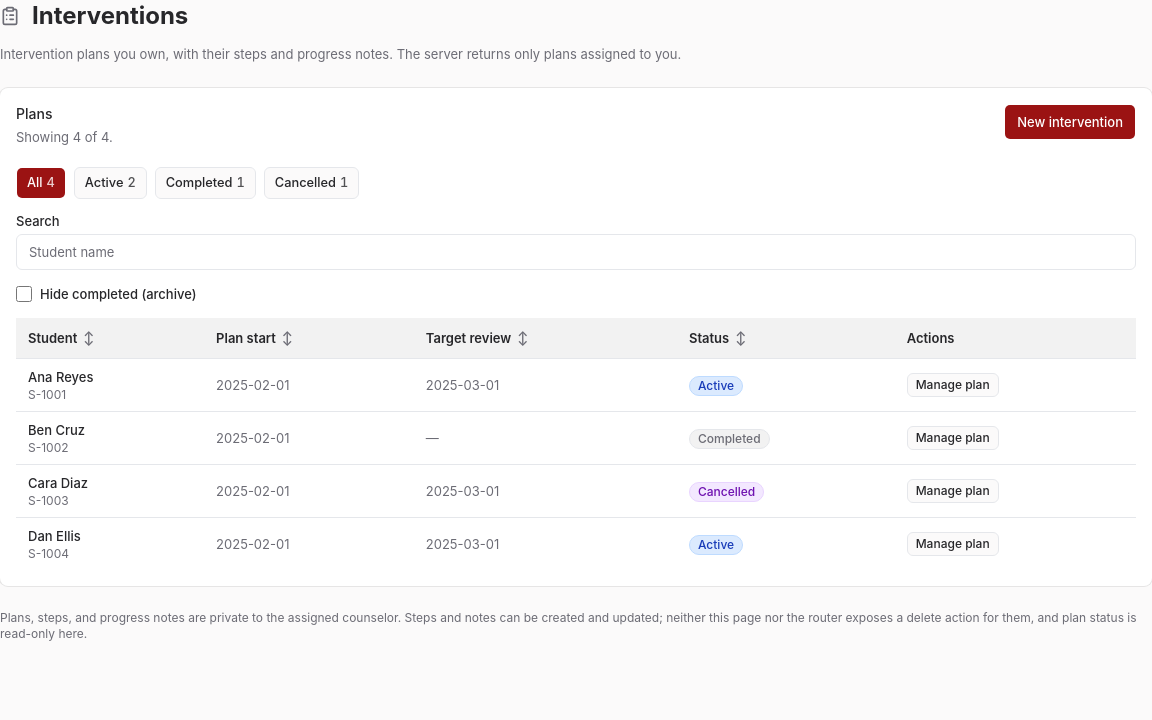
Test case: InterventionsPage › offers only the selected student's risk alerts
The width and height of the screenshot is (1152, 720).
expect the text "Ana Reyes" is shown: met, box [28,369,93,385]
Click the button "New intervention": [1070, 122] box [1004,104,1136,140]
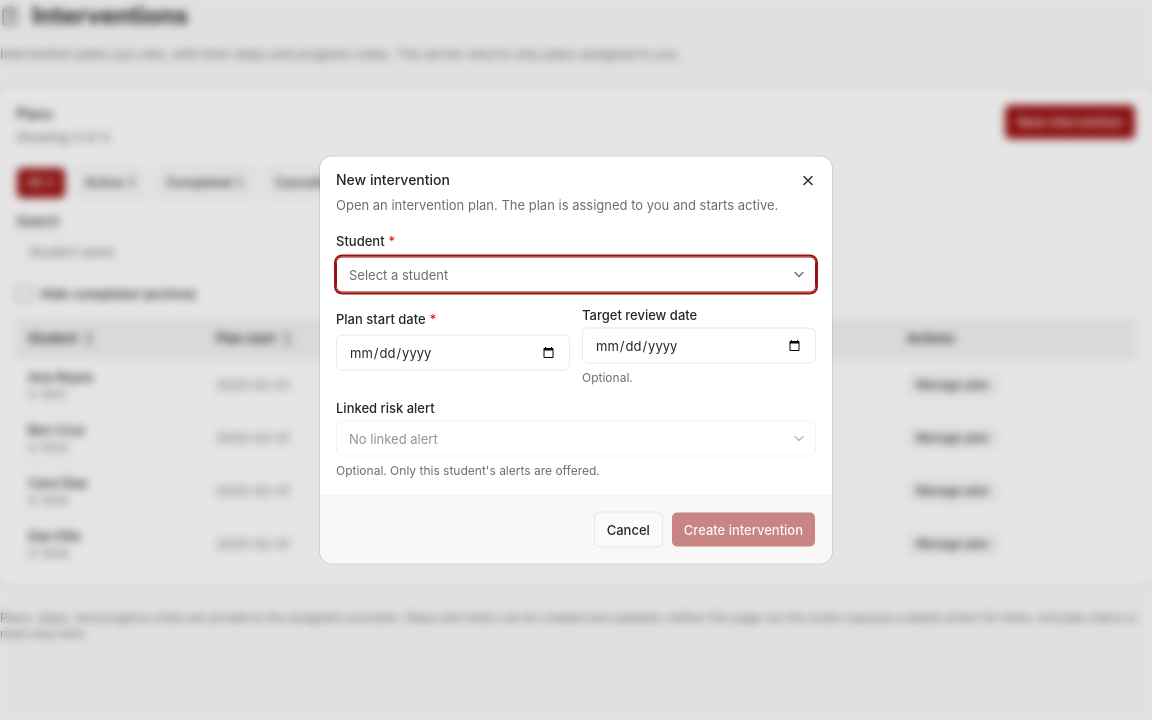
expect the dropdown labelled "Select a student" is enabled: met
Press ArrowDown in the dropdown labelled "Select a student", box [336,256,816,292]
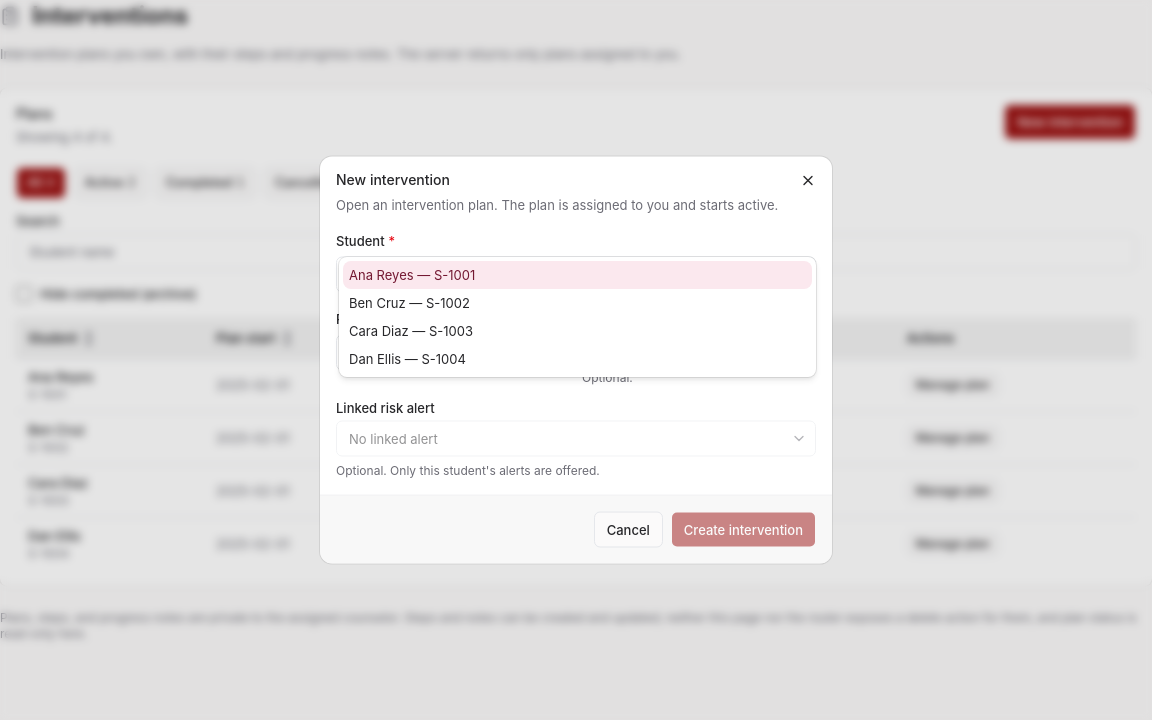
Click the option "Ana Reyes — S-1001": [381, 274] box [343,260,812,288]
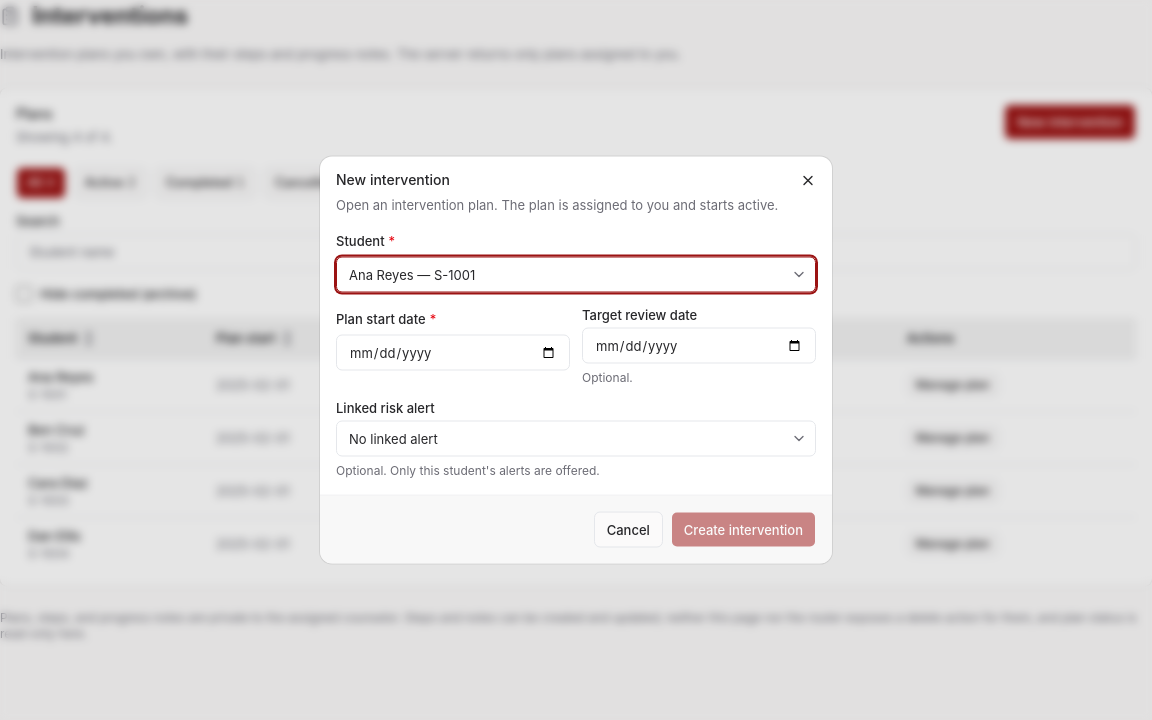
expect the dropdown named "linked risk alert" is enabled: met
Press ArrowDown in the dropdown named "linked risk alert", box [336,420,816,456]
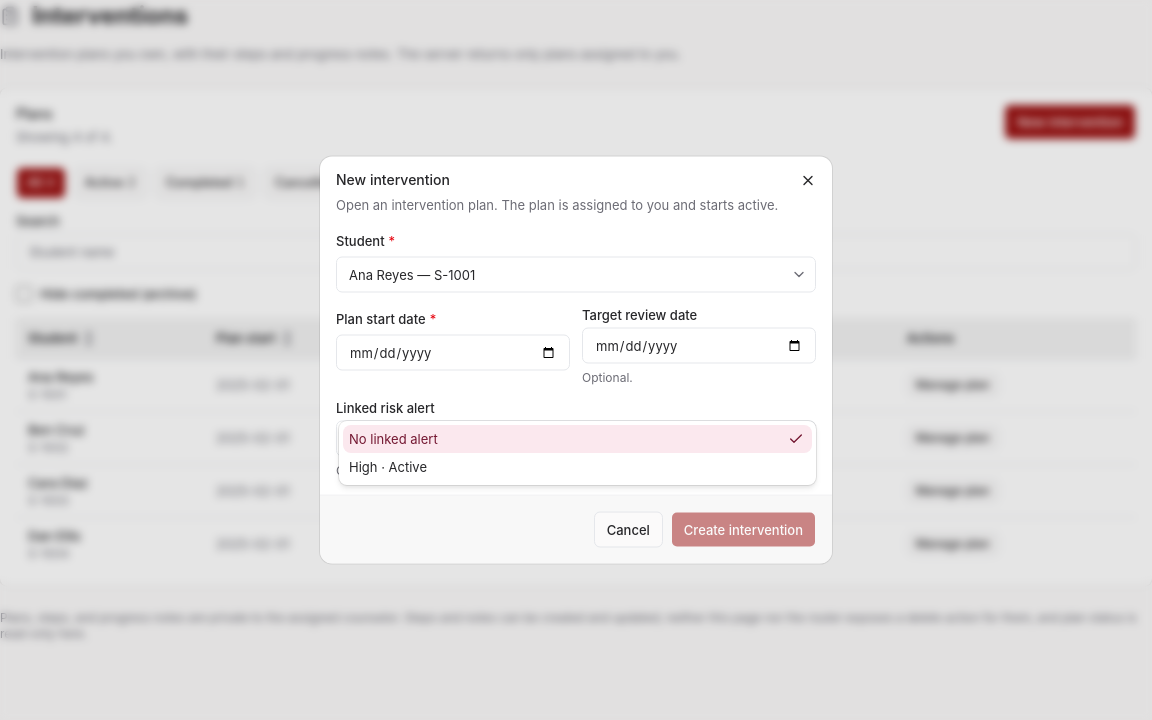
expect the option "High · Active" is shown: met, box [349,458,427,474]
expect the option "No linked alert" is shown: met, box [343,424,812,452]
